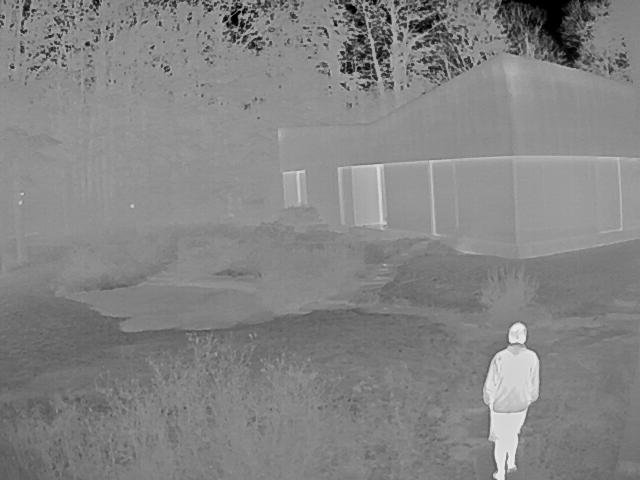person: (483, 319, 542, 479)
